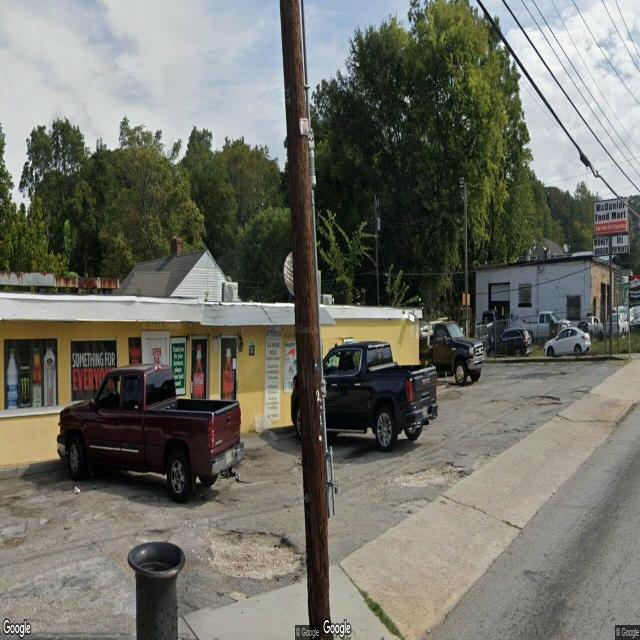trash_can: (127, 540, 185, 640)
